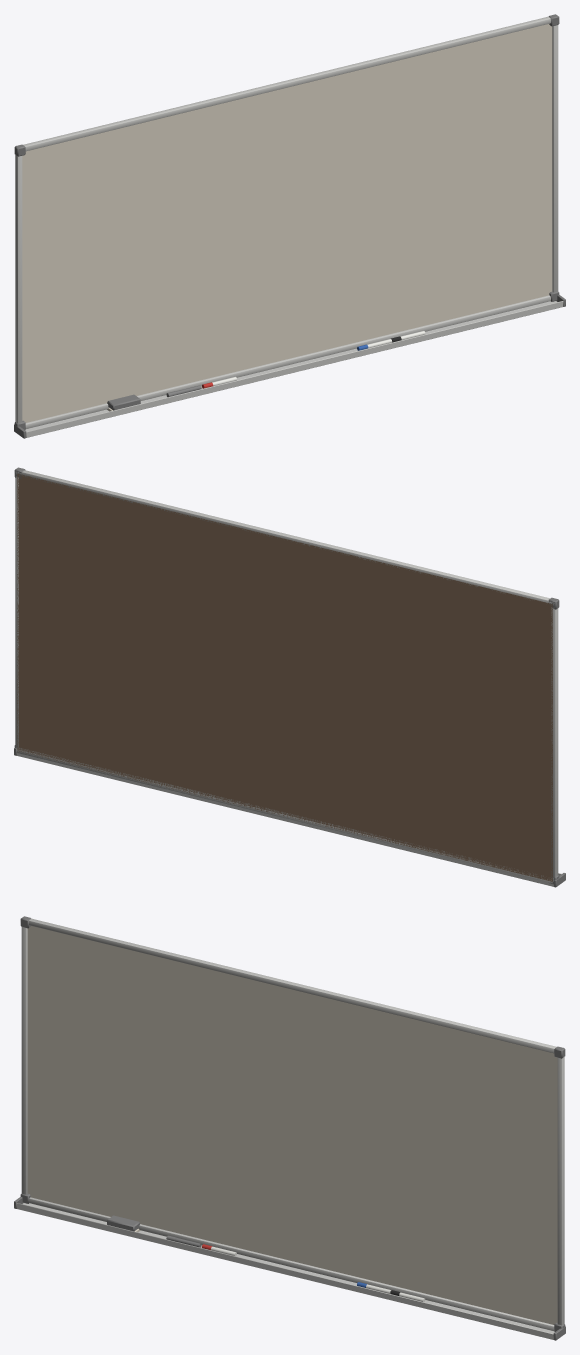
The model's file is Kit_MarkerBoard.fbx.
3 renders of one model, top to bottom at view 1: azimuth 30°, elevation 25°; view 2: azimuth 150°, elevation 25°; view 3: azimuth 330°, elevation 25°, orthographic.
Visible parts, largest first — view 1: Kit_MarkerBoard_LOD0; view 2: Kit_MarkerBoard_LOD0; view 3: Kit_MarkerBoard_LOD0.
Boxes of the visible parts, x1=… form: Kit_MarkerBoard_LOD0: x1=14, y1=14, x2=565, y2=438; Kit_MarkerBoard_LOD0: x1=14, y1=467, x2=565, y2=887; Kit_MarkerBoard_LOD0: x1=14, y1=916, x2=565, y2=1340.
Size of what is drawn, in the model's own units: 2.45 by 1.23 by 0.079.
